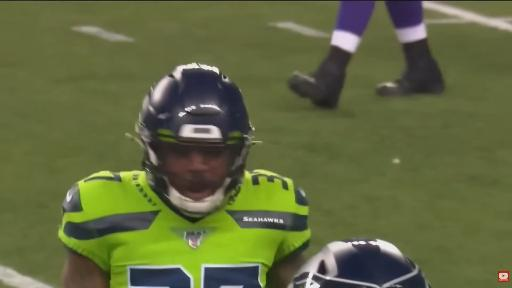Helmet: (136, 63, 253, 217), (289, 239, 430, 287)
Jersey: (59, 170, 310, 287)
Player: (59, 64, 310, 287), (289, 239, 430, 287), (377, 0, 444, 96)
